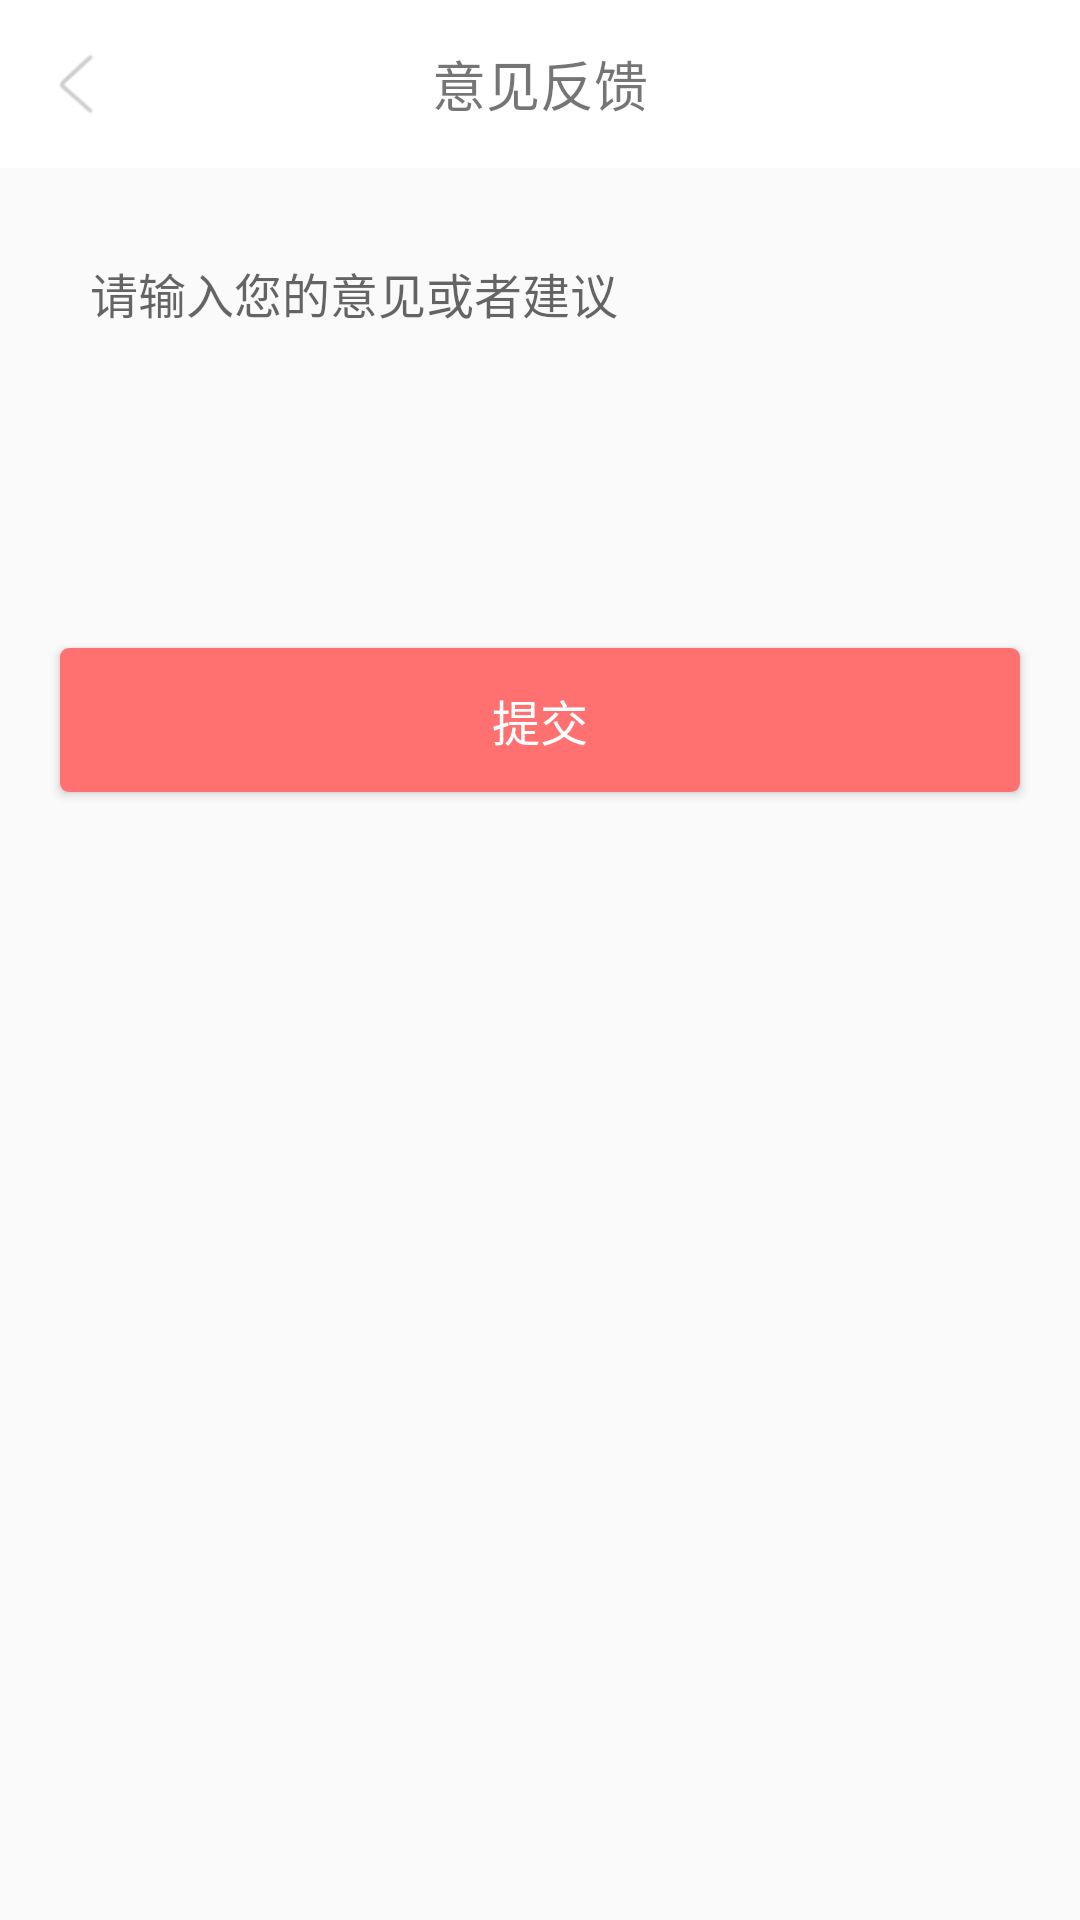

Point at icon controls on the screen. Image size 1080 × 1920, points as (x=x, y=y).
back: (x=76, y=84)
